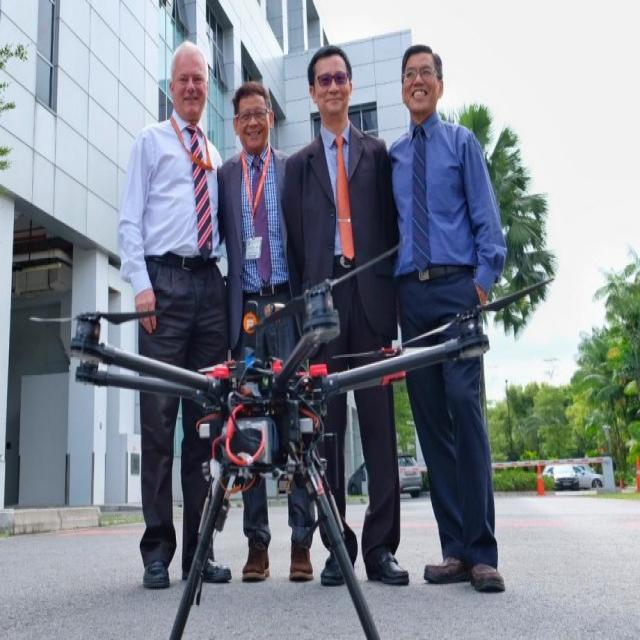drone: (18, 268, 558, 449)
